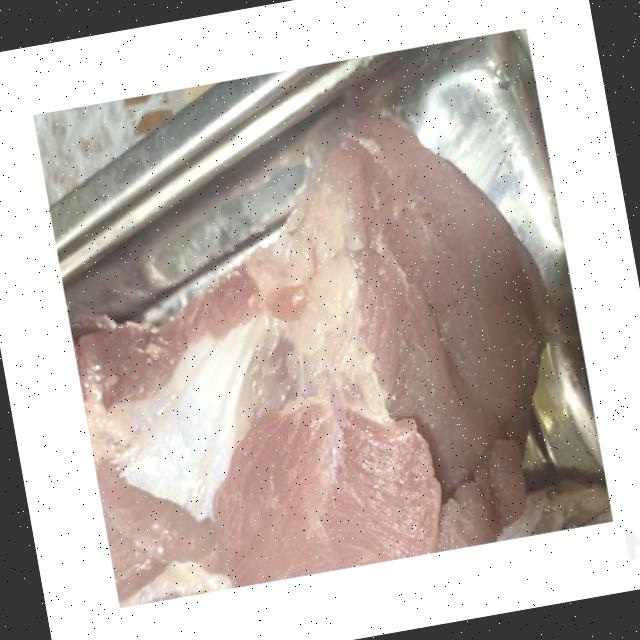rotten meat: (6, 0, 635, 623)
